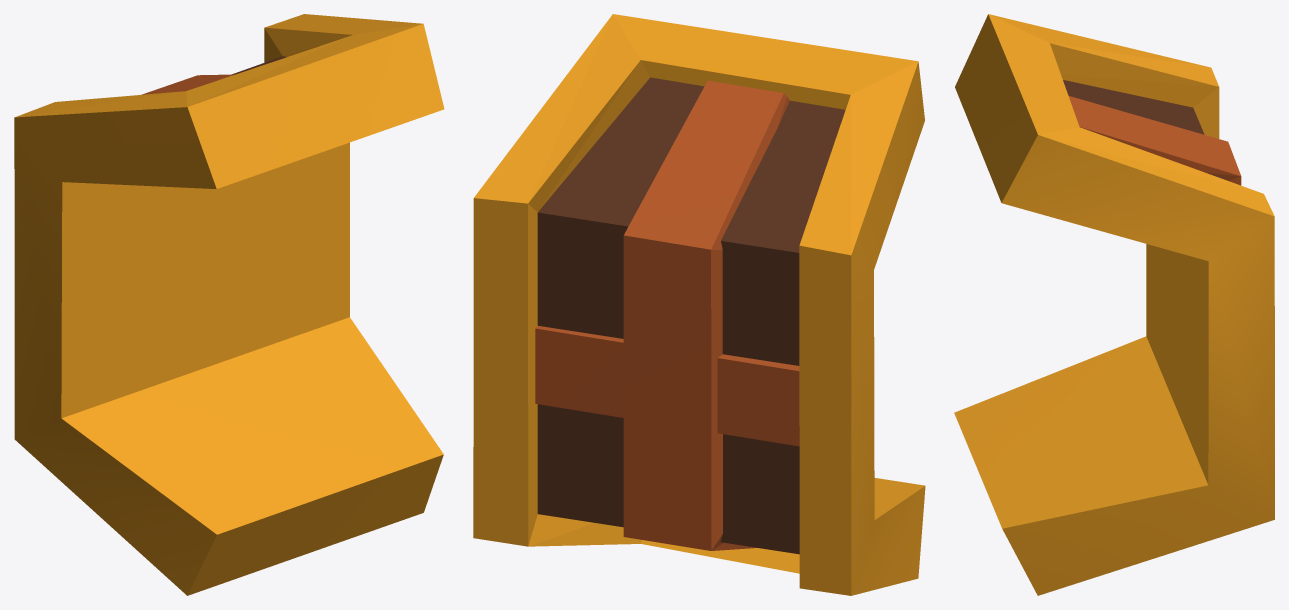
The model's file is Pauldron 15.FBX.
3 views of the same model, side by side, from view 1: azimuth 30°, elevation 25°; view 2: azimuth 150°, elevation 25°; view 3: azimuth 270°, elevation 25° (orthographic). The views are drawn at different scales.
Parts seen in each view (by area): view 1: Pauldron 15; view 2: Pauldron 15; view 3: Pauldron 15.
Boxes of the visible parts, x1,y1,x2,y2 form: Pauldron 15: (14, 14, 444, 595); Pauldron 15: (473, 14, 925, 595); Pauldron 15: (954, 14, 1274, 595).
Size of the model in its own units: 29.3 by 25.82 by 40.95.
